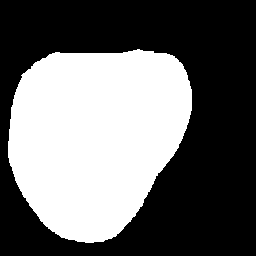mass: (16, 48, 192, 241)
